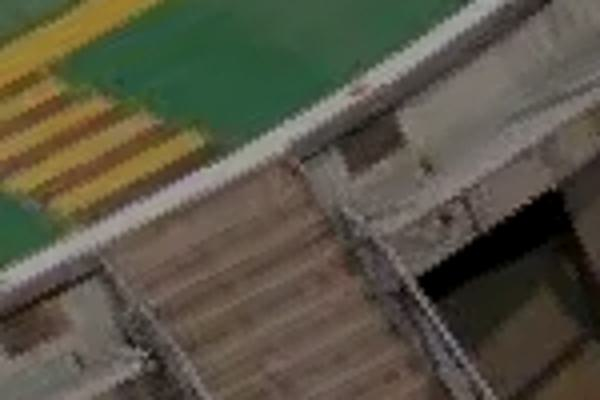Apron: (1, 1, 172, 98)
